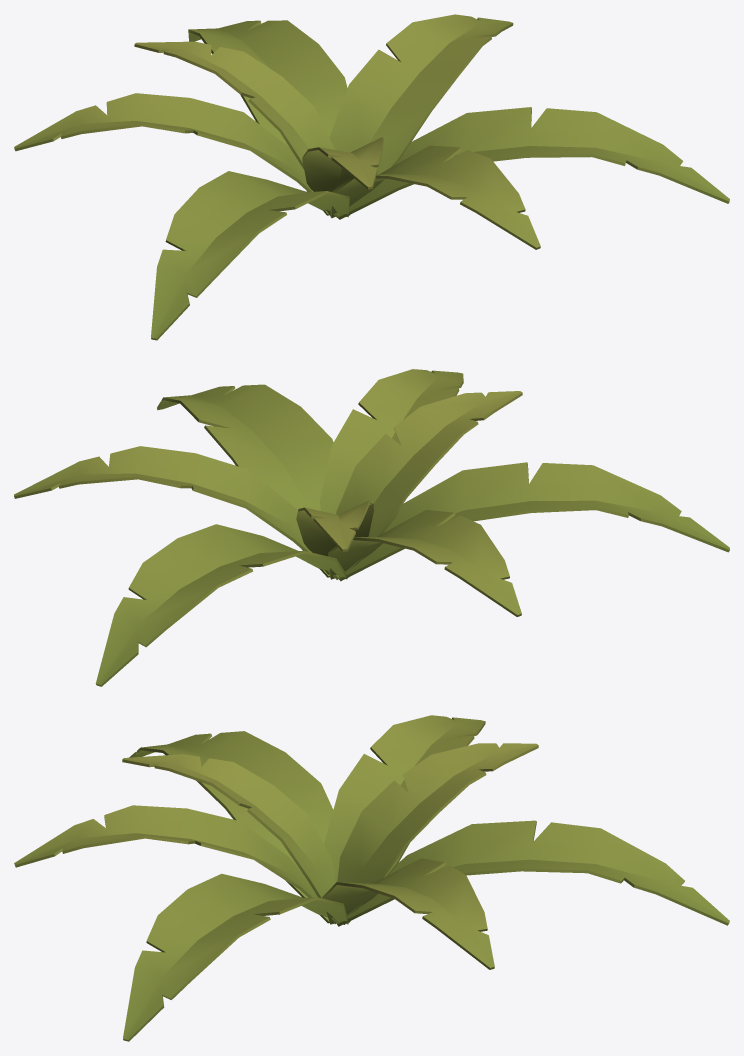
Rendered from Plant_03.fbx.
3 renders of one model, top to bottom at view 1: azimuth 30°, elevation 25°; view 2: azimuth 150°, elevation 25°; view 3: azimuth 270°, elevation 25°, orthographic.
Visible parts, largest first — view 1: Plant_03_LOD0; view 2: Plant_03_LOD0; view 3: Plant_03_LOD0.
Part boxes in pixels (left/top/right/bottom): Plant_03_LOD0: left=14, top=14, right=729, bottom=340; Plant_03_LOD0: left=14, top=369, right=729, bottom=686; Plant_03_LOD0: left=14, top=715, right=729, bottom=1041.
Size of what is drawn, in the model's own units: 119 by 26.06 by 127.
